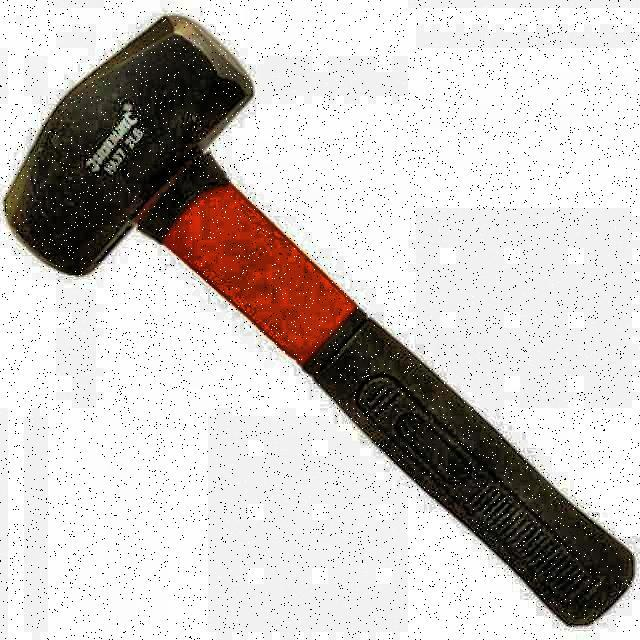hammer: (0, 11, 635, 627)
